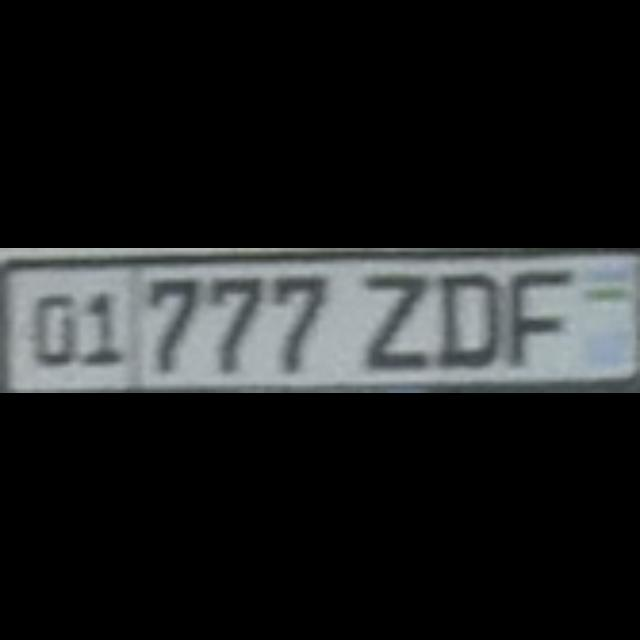0: (31, 290, 73, 358)
1: (77, 286, 119, 358)
7: (268, 266, 322, 366), (146, 270, 192, 366), (207, 270, 253, 366)
D: (434, 266, 498, 362)
F: (506, 262, 570, 358)
Z: (356, 266, 422, 362)
